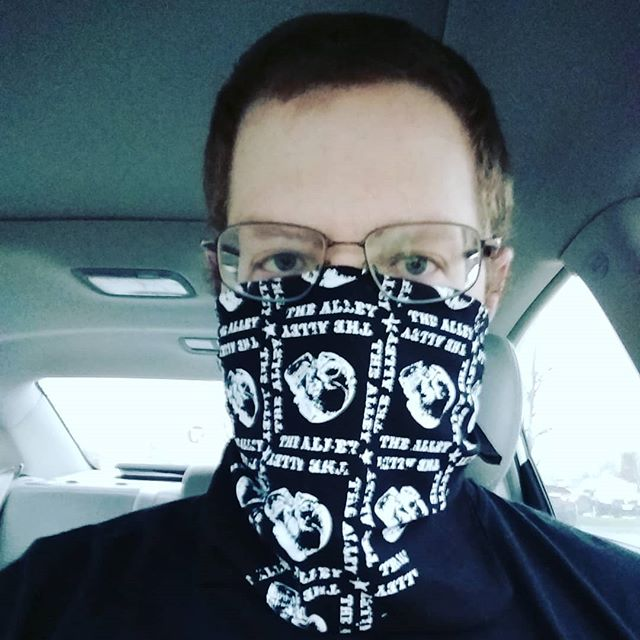homemade: (206, 274, 471, 621)
